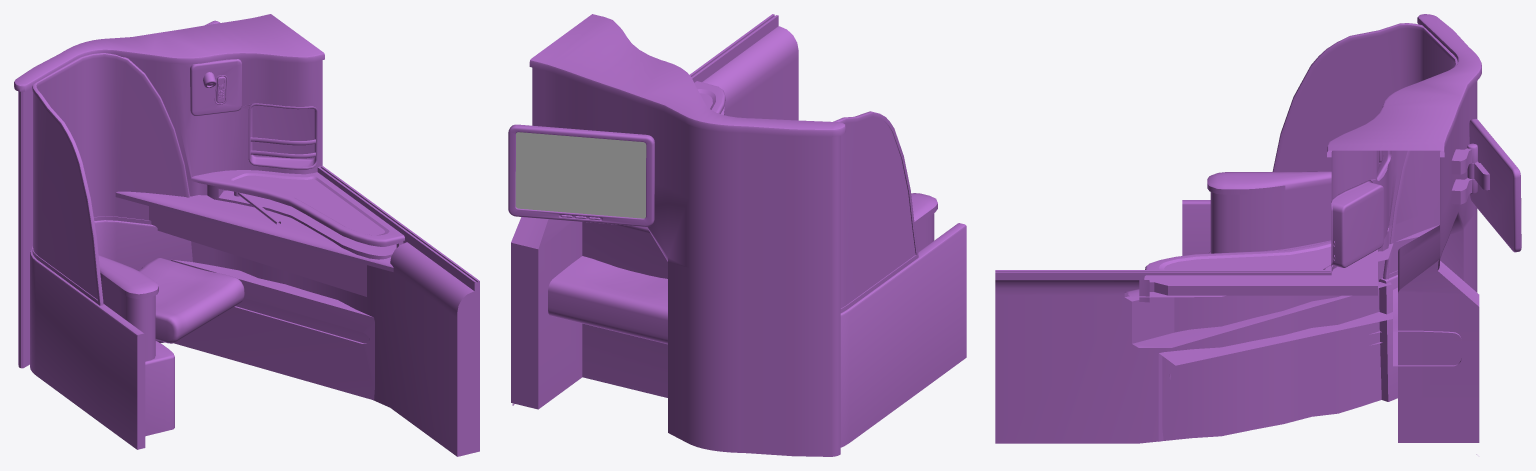
Rendered from BC_seat_R.fbx.
3 renders of one model, left to right at view 1: azimuth 30°, elevation 25°; view 2: azimuth 150°, elevation 25°; view 3: azimuth 270°, elevation 25°, orthographic. The views are drawn at different scales.
Parts seen in each view (by area): view 1: B_Seat_R, Seat_2_2; view 2: B_Seat_R, Screen_2_2; view 3: B_Seat_R, Screen_2_2.
Boxes of the visible parts, x1,y1,x2,y2 form: B_Seat_R: [14, 14, 479, 456]; Seat_2_2: [139, 258, 244, 343]; B_Seat_R: [511, 14, 966, 456]; Screen_2_2: [508, 124, 654, 226]; B_Seat_R: [995, 14, 1481, 443]; Screen_2_2: [1467, 118, 1521, 252].
Size of the model in its own units: 132 by 138 by 214.
